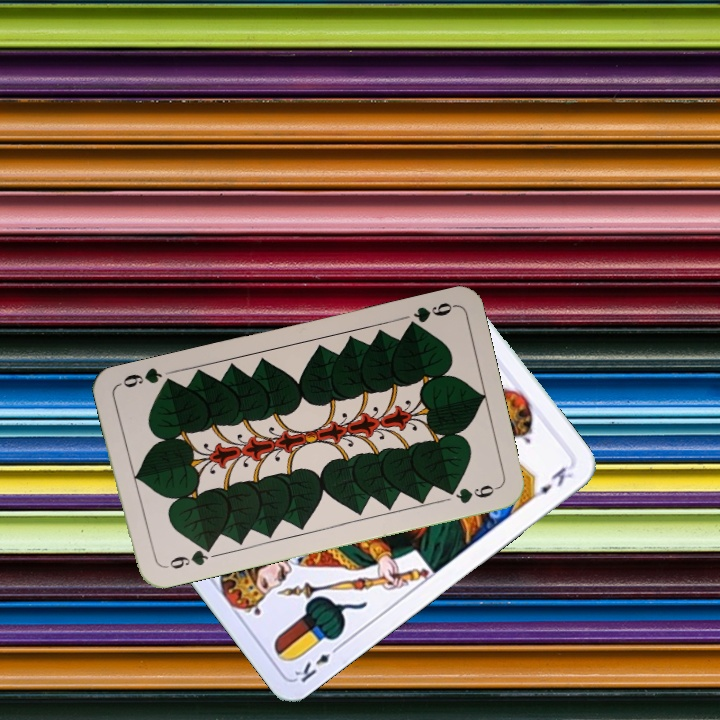EK: (290, 640, 344, 686)
G9: (401, 298, 457, 333), (158, 541, 215, 572)
